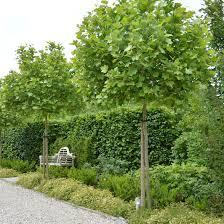tree: (72, 1, 215, 210), (11, 46, 79, 180)
